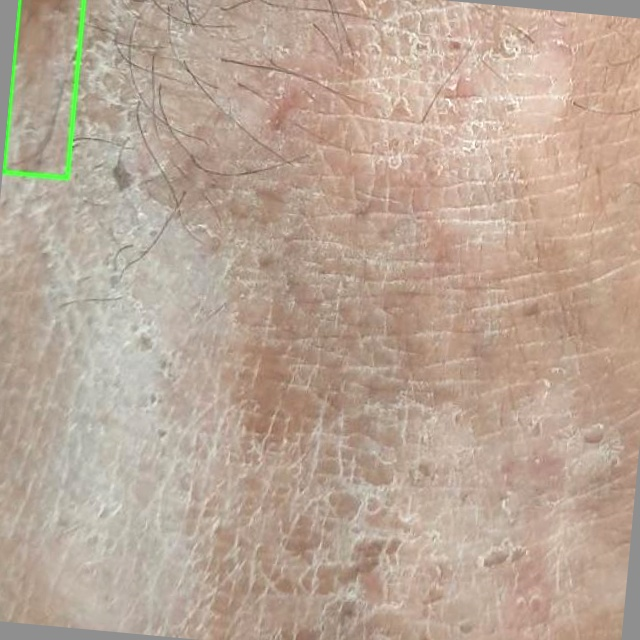Tinea Corporis: (3, 0, 83, 178)
